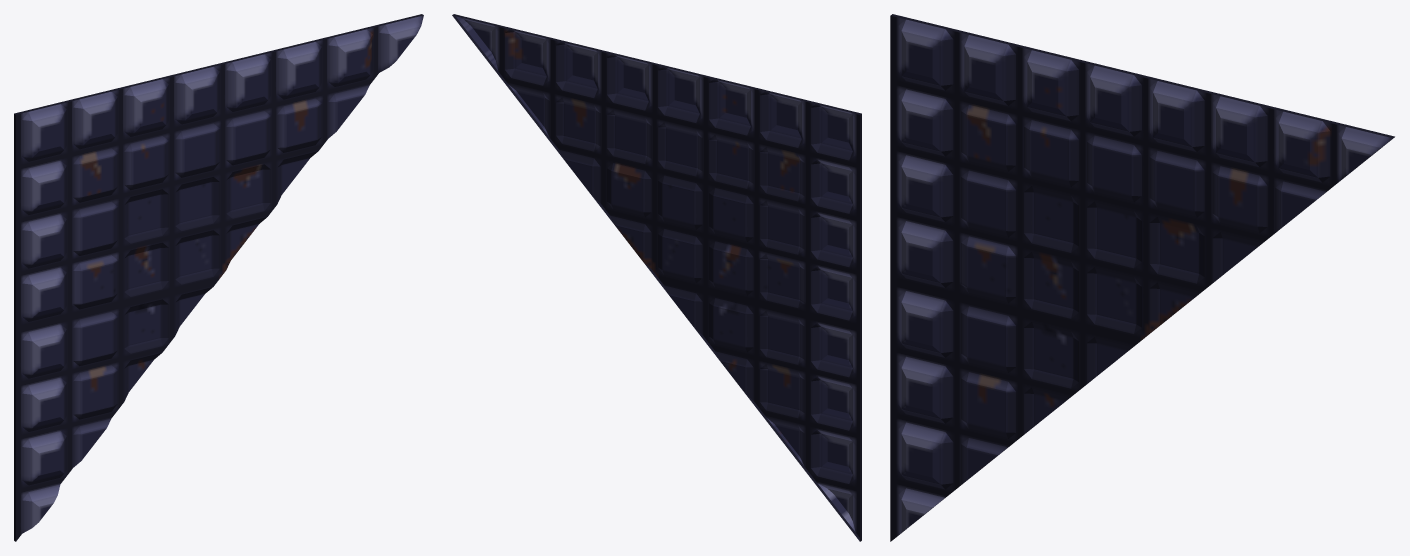
The model's file is med1_1_slice256.fbx.
3 renders of one model, left to right at view 1: azimuth 30°, elevation 25°; view 2: azimuth 150°, elevation 25°; view 3: azimuth 330°, elevation 25°, orthographic. The views are drawn at different scales.
Parts seen in each view (by area): view 1: med1_1_slice256_mesh; view 2: med1_1_slice256_mesh; view 3: med1_1_slice256_mesh.
Boxes of the visible parts, x1,y1,x2,y2 form: med1_1_slice256_mesh: (14, 14, 423, 541); med1_1_slice256_mesh: (452, 14, 861, 541); med1_1_slice256_mesh: (890, 14, 1394, 541).
Size of the model in its own units: 256 by 256 by 7.5.
